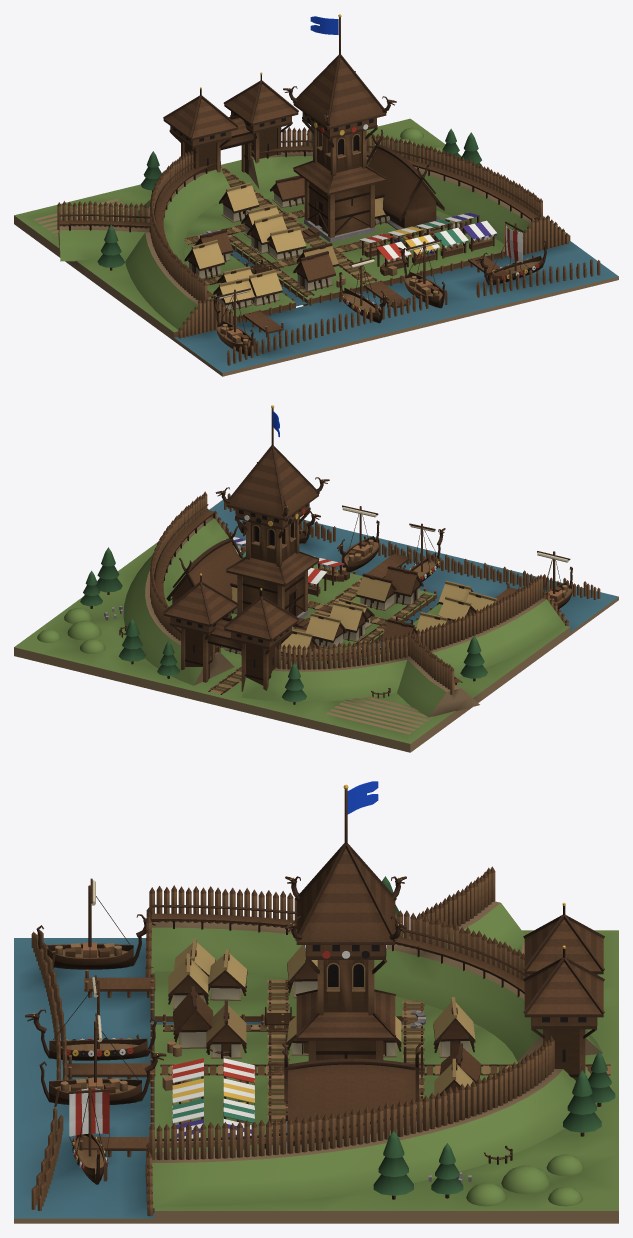
The model's file is lm_hedeby.glb.
The picture shows the model from 3 angles, top to bottom: view 1: azimuth 30°, elevation 25°; view 2: azimuth 150°, elevation 25°; view 3: azimuth 270°, elevation 25°; orthographic projection. The views are drawn at different scales.
Visible parts, largest first — view 1: lm_hedeby; view 2: lm_hedeby; view 3: lm_hedeby.
Part boxes in pixels (box(x1,y1,x2,y2)): lm_hedeby: box(14, 14, 618, 376); lm_hedeby: box(14, 405, 618, 752); lm_hedeby: box(14, 781, 618, 1223).
Bounding box in the file's own units: 2.43 × 1.26 × 2.15.
Materials: 1 (1 with a texture image).
